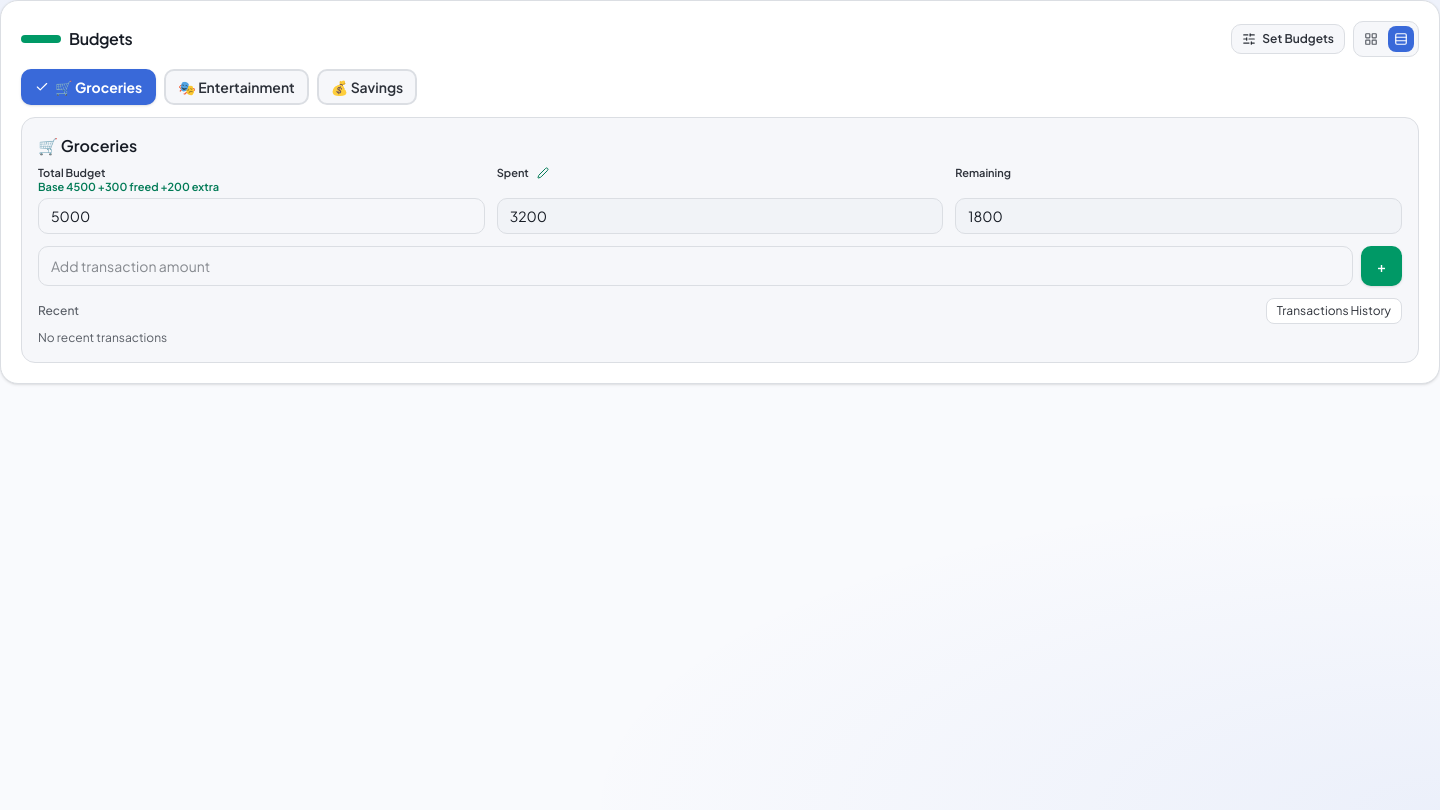
Test: BudgetSection › shows only the active tab in tabs mode, switching on tab click
Expected: the field labelled "Total Savings" is not shown
Expected: the number of number fields with placeholder "Add transaction amount" is 1, [38,246,1353,286]
Click the tab "💰 Savings" at [367, 87], box [317,69,417,105]
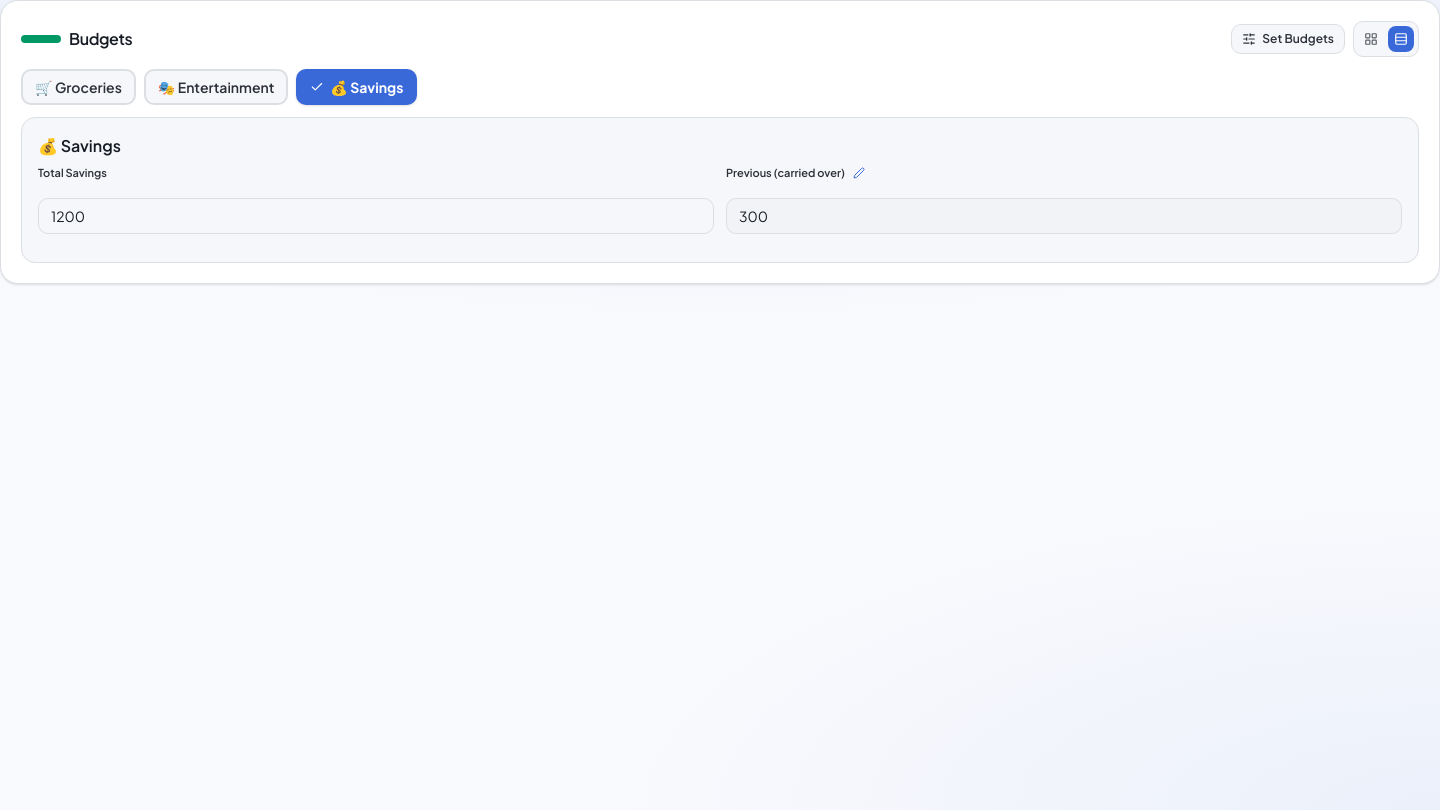
Expected: the field with placeholder "Add transaction amount" is not shown
Now the number field labelled "Total Savings" is shown, box [38,198,714,234]
